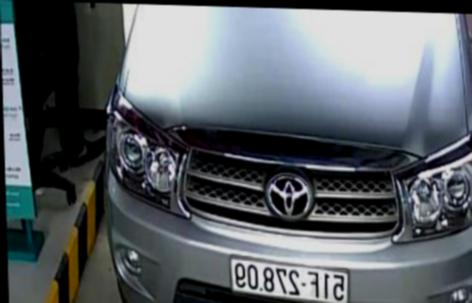License_Plate: (233, 262, 345, 303)
